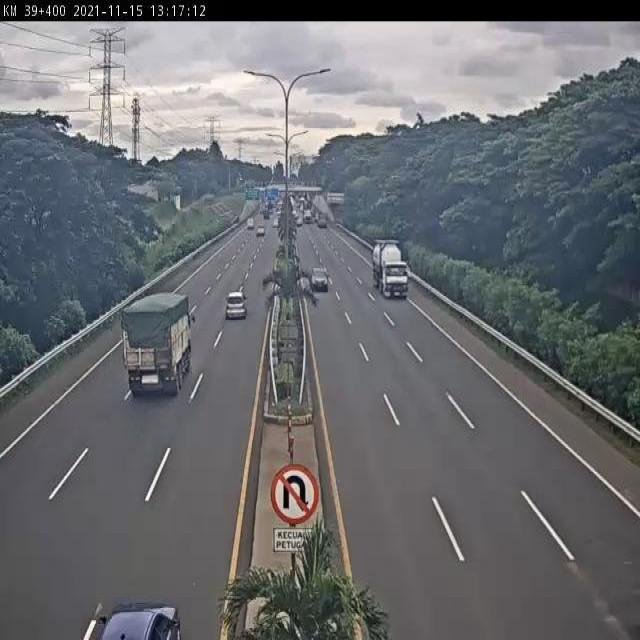car: (224, 287, 250, 320), (309, 264, 331, 292)
truck-l-: (122, 291, 196, 398)
truck-xl-: (369, 234, 412, 302)
